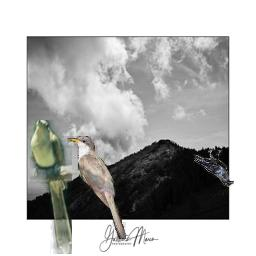Crow: (193, 149, 234, 187)
Cuckoo: (67, 136, 126, 239), (30, 120, 72, 254)
